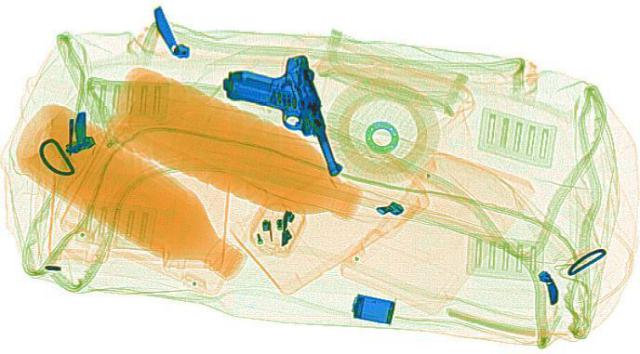Gun: (211, 55, 357, 179)
